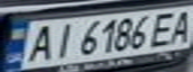1: (96, 16, 121, 54)
6: (127, 12, 157, 51), (75, 18, 103, 56)
8: (115, 15, 139, 52)
A: (21, 21, 60, 63), (166, 7, 193, 44)
E: (145, 9, 184, 47)
I: (48, 20, 78, 60)
